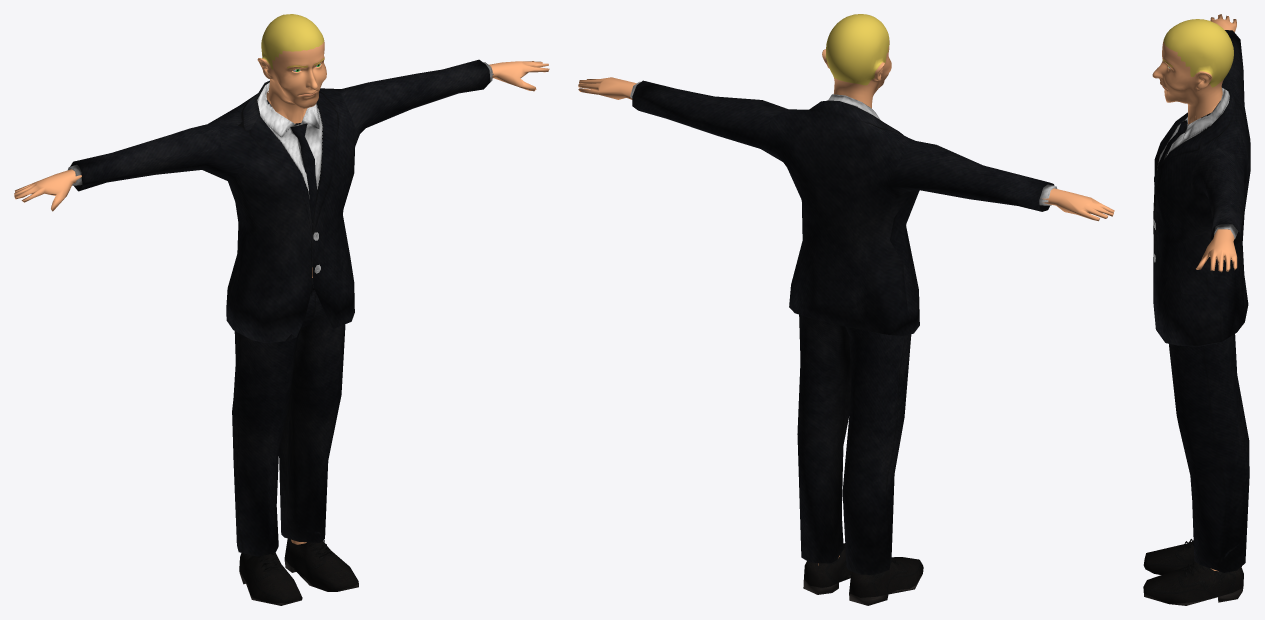
File: putinn.fbx
3 views of the same model, side by side, from view 1: azimuth 30°, elevation 25°; view 2: azimuth 150°, elevation 25°; view 3: azimuth 270°, elevation 25° (orthographic).
Visible parts, largest first — view 1: putin.001; view 2: putin.001; view 3: putin.001.
Part boxes in pixels (x1,y1,x2,y2): putin.001: [14, 14, 549, 605]; putin.001: [578, 14, 1114, 605]; putin.001: [1143, 14, 1250, 605].
Bounding box in the file's own units: 16905 × 17109 × 2959.
Materials: 10 (3 with a texture image).
